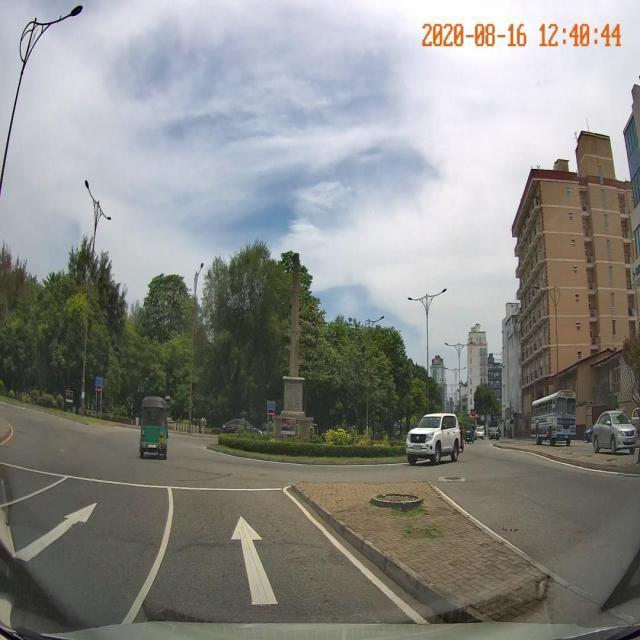Strelka vpered: (12, 502, 98, 562), (231, 515, 279, 605)
